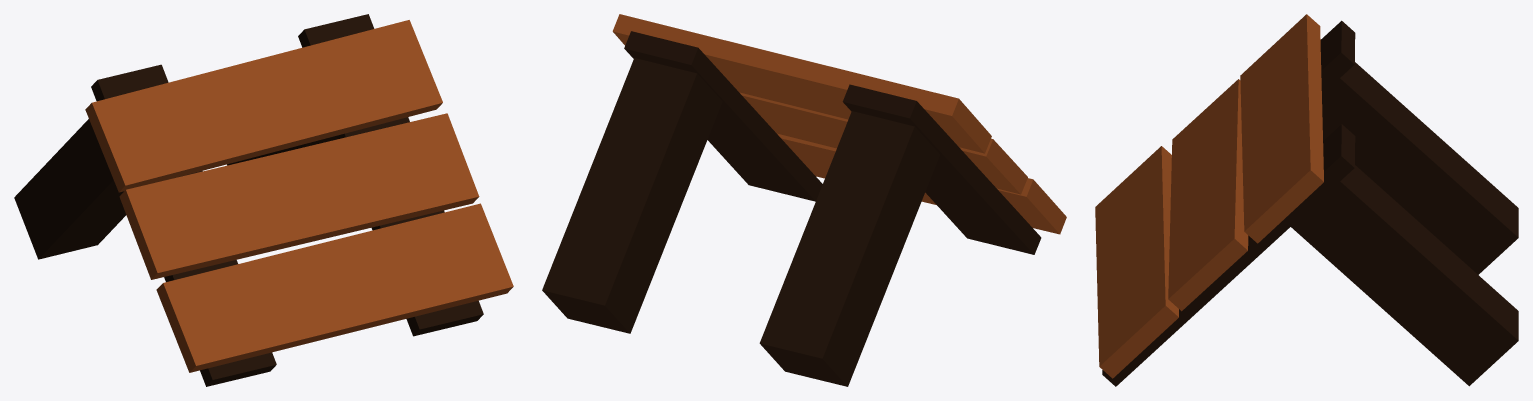
Rendered from wooden_barricade_small.FBX.
3 renders of one model, left to right at view 1: azimuth 30°, elevation 25°; view 2: azimuth 150°, elevation 25°; view 3: azimuth 270°, elevation 25°, orthographic. The views are drawn at different scales.
Visible parts, largest first — view 1: Quader013, Quader012, Quader014, Quader017, Quader016, Quader015; view 2: Quader018, Quader017, Quader012, Quader015, Quader016, Quader013, Quader014; view 3: Quader018, Quader017, Quader012, Quader014, Quader013, Quader016, Quader015.
Part boxes in pixels (box(x1,y1,x2,y2)): Quader013: box(119, 113, 479, 279); Quader012: box(85, 20, 442, 192); Quader014: box(156, 203, 513, 372); Quader017: box(14, 119, 126, 259); Quader016: box(298, 14, 483, 336); Quader015: box(91, 64, 276, 386); Quader018: box(542, 58, 722, 333); Quader017: box(759, 111, 939, 386); Quader012: box(612, 14, 991, 153); Quader015: box(842, 84, 1041, 254); Quader016: box(624, 31, 822, 201); Quader013: box(739, 92, 1027, 194); Quader014: box(777, 133, 1066, 234); Quader018: box(1291, 165, 1518, 386); Quader017: box(1322, 62, 1518, 274); Quader012: box(1240, 14, 1323, 243); Quader014: box(1095, 146, 1178, 378); Quader013: box(1168, 79, 1248, 311); Quader016: box(1102, 124, 1355, 386); Quader015: box(1320, 20, 1355, 94).
Size of the model in its own units: 1.02 by 1.14 by 0.687.
